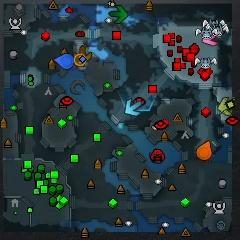Other: (74, 54, 86, 66)
p1: (54, 53, 74, 70)
p5: (196, 140, 212, 160)
x1: (203, 36, 217, 45)
x2: (217, 97, 232, 116)
x3: (125, 99, 141, 117)
x4: (109, 5, 127, 23)
x5: (79, 45, 92, 62)
